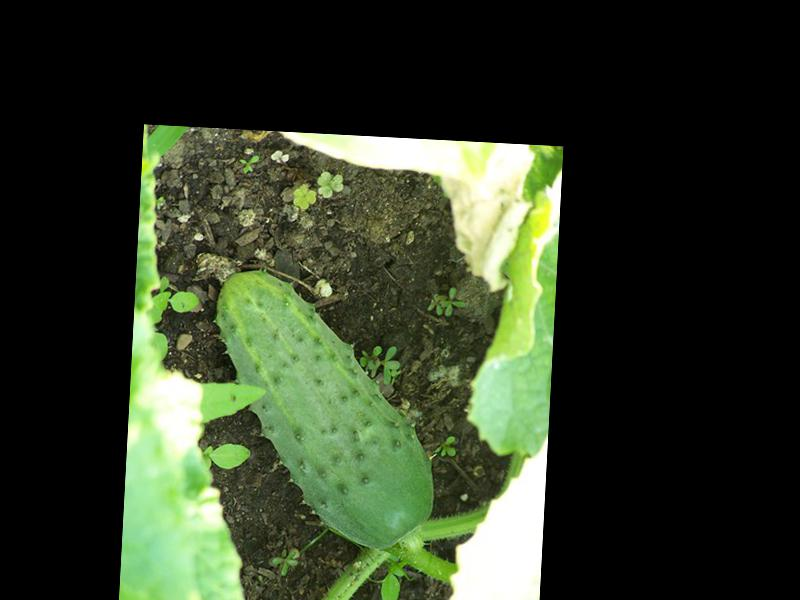Cucumber: (204, 268, 446, 553)
